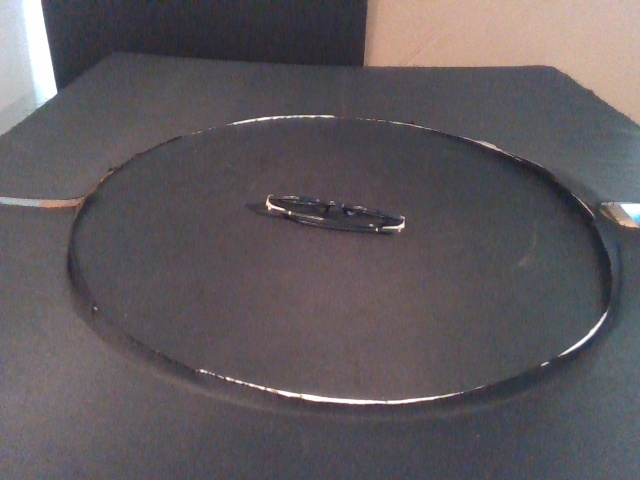glasses: (265, 192, 408, 239)
